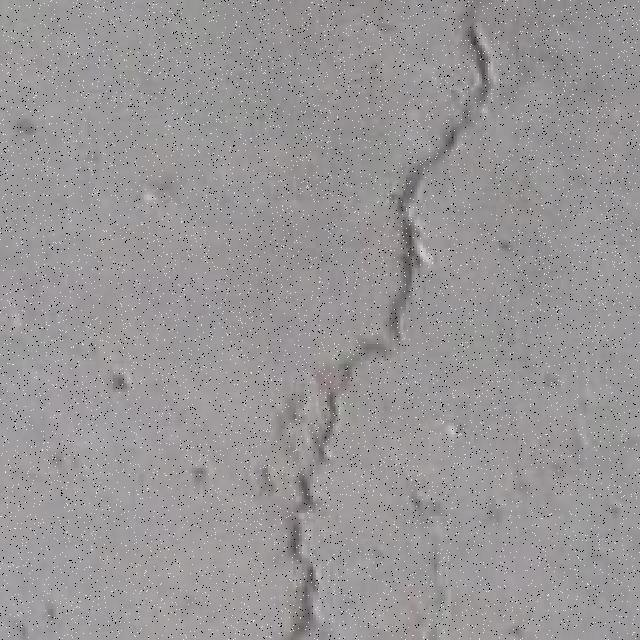crack: (262, 7, 495, 636), (410, 34, 490, 181)
